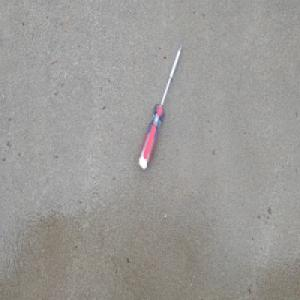Screwdriver: (137, 42, 184, 171)
